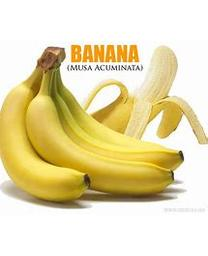banana: (0, 45, 185, 200)
